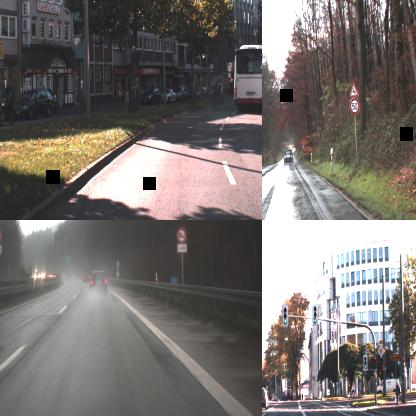ANIMALS: (349, 82, 359, 98)
no overtaking: (176, 226, 186, 244), (0, 226, 3, 244)
priority road: (377, 344, 385, 358)
speed limit 50: (350, 97, 360, 115)
